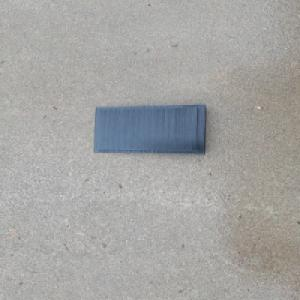PlasticPart: (92, 103, 208, 154)
